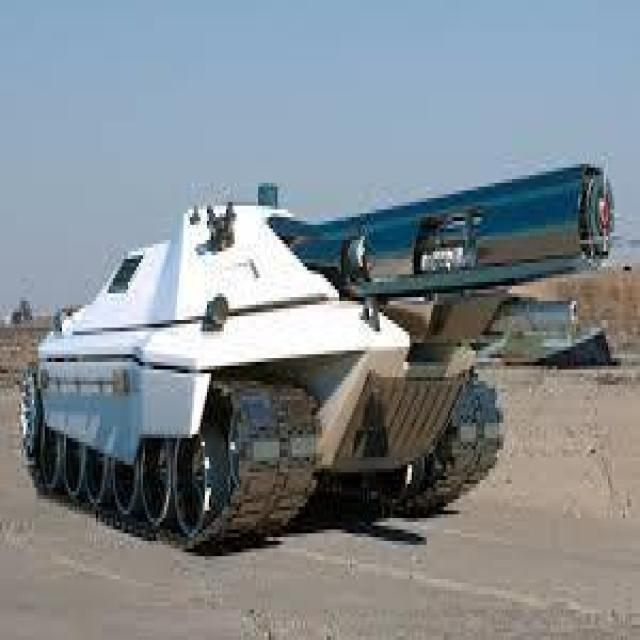MIL_MBT: (23, 189, 474, 581)
